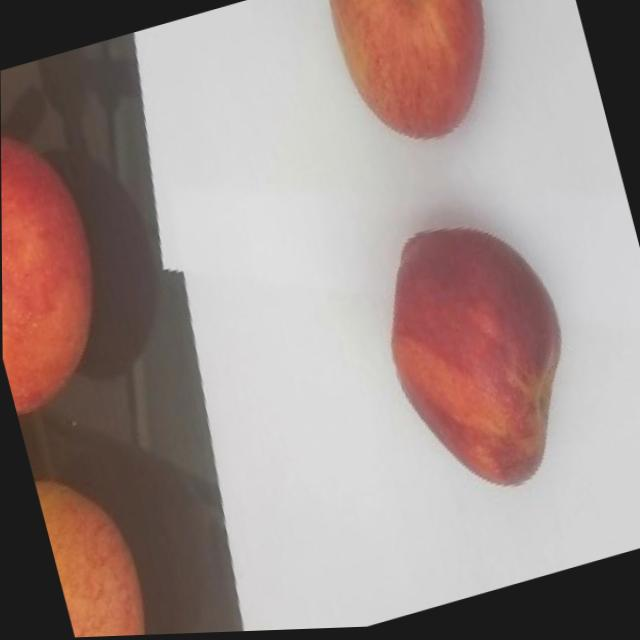Apple: (359, 200, 596, 521), (1, 105, 129, 413), (311, 0, 517, 165), (31, 450, 168, 639)
